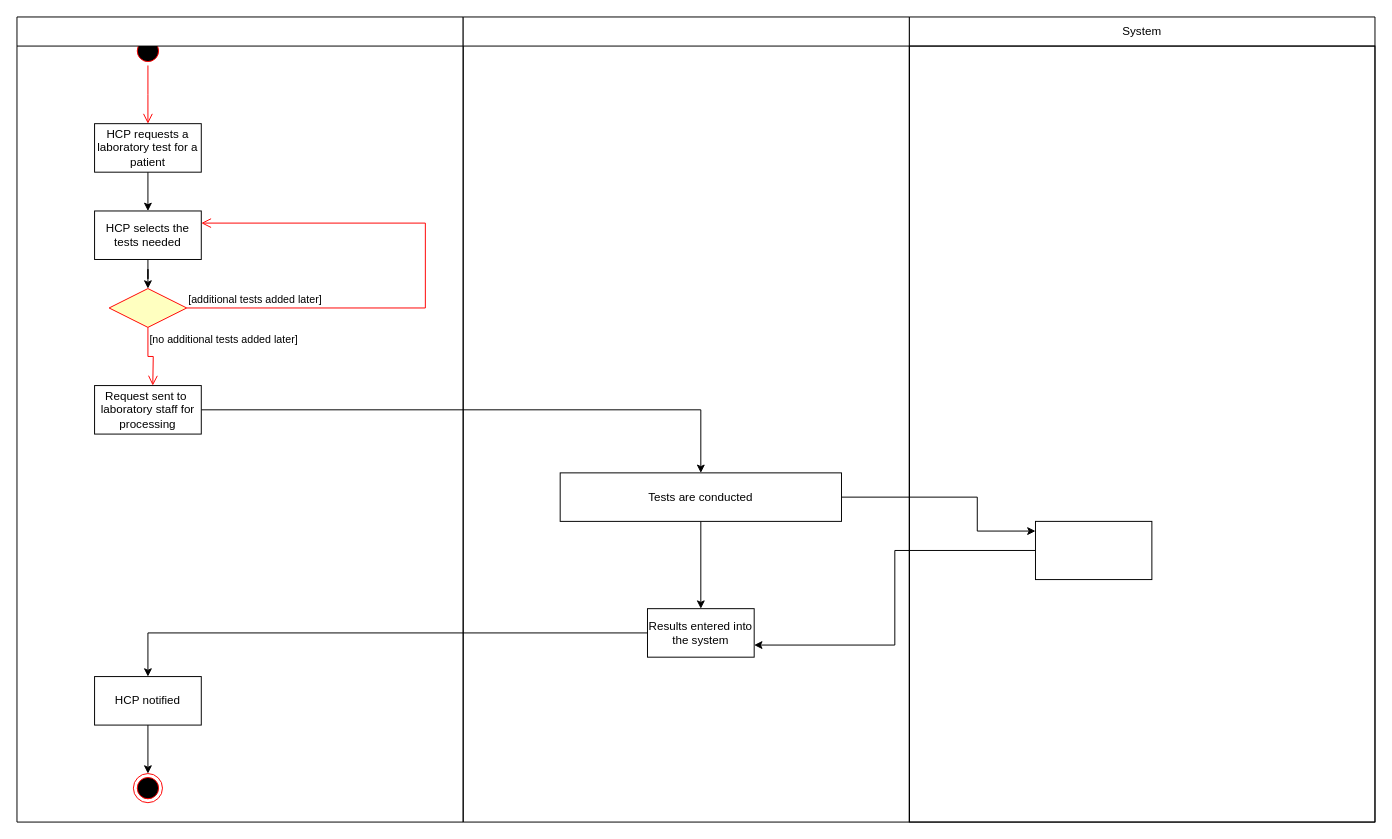
Some shapes in this 1392 by 839 pixel diagram are drawn without their labels. Each missing label, with the box of its shape:
HCP: (16, 16, 463, 822)
Laboratory Staff: (462, 16, 909, 822)
PDF file of the tests is created: (1035, 520, 1152, 580)
